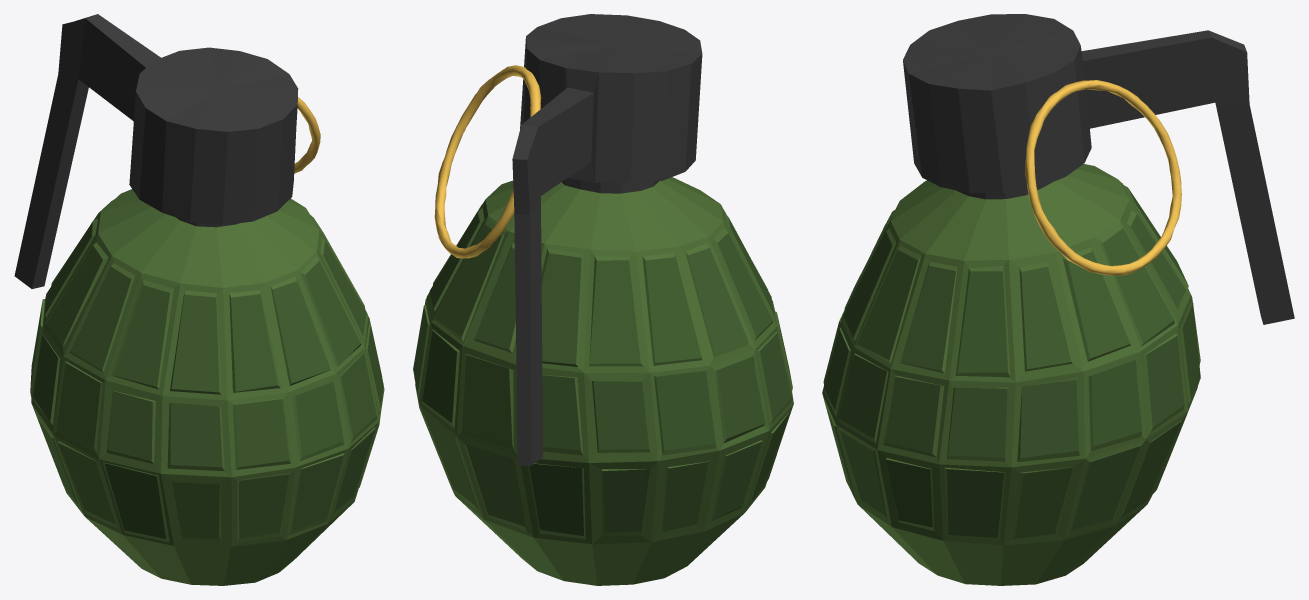
The model's file is granata1.glb.
3 renders of one model, left to right at view 1: azimuth 30°, elevation 25°; view 2: azimuth 150°, elevation 25°; view 3: azimuth 270°, elevation 25°, orthographic. The views are drawn at different scales.
Visible parts, largest first — view 1: granata; view 2: granata; view 3: granata.
Boxes of the visible parts, box(x1,y1,x2,y2) form: granata: box(14, 14, 384, 585); granata: box(413, 14, 793, 585); granata: box(822, 14, 1294, 585).
Size of the model in its own units: 0.4784 by 0.6999 by 0.5919.
